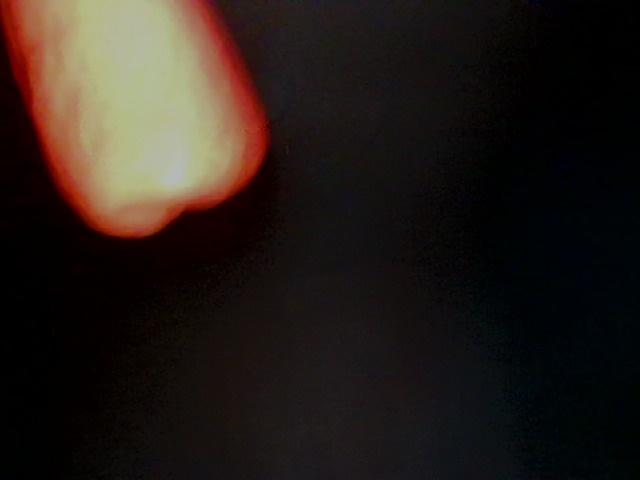CYLJ: (1, 1, 275, 250)
